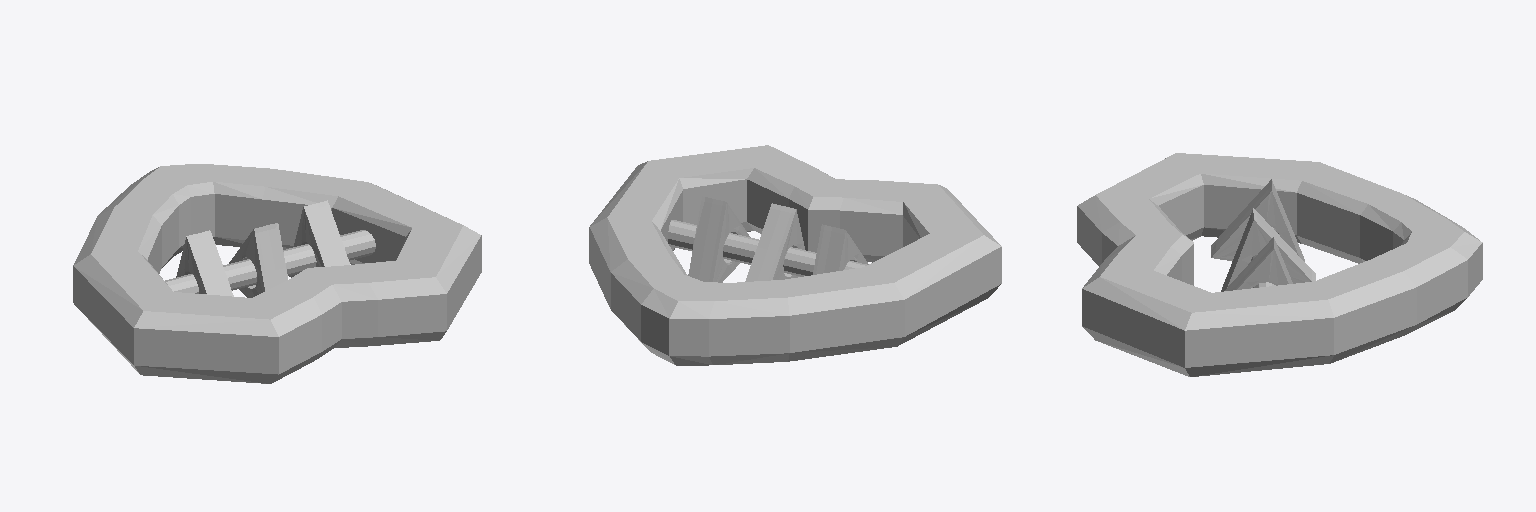
File: Brinquedo.obj
3 renders of one model, left to right at view 1: azimuth 30°, elevation 25°; view 2: azimuth 150°, elevation 25°; view 3: azimuth 270°, elevation 25°, orthographic.
Visible parts, largest first — view 1: Toy_Train:hart; view 2: Toy_Train:hart; view 3: Toy_Train:hart.
Part boxes in pixels (x1,y1,x2,y2): Toy_Train:hart: (73,164,481,383); Toy_Train:hart: (589,145,1001,365); Toy_Train:hart: (1077,153,1482,376).
Bounding box in the file's own units: 0.161 × 0.0353 × 0.1588.